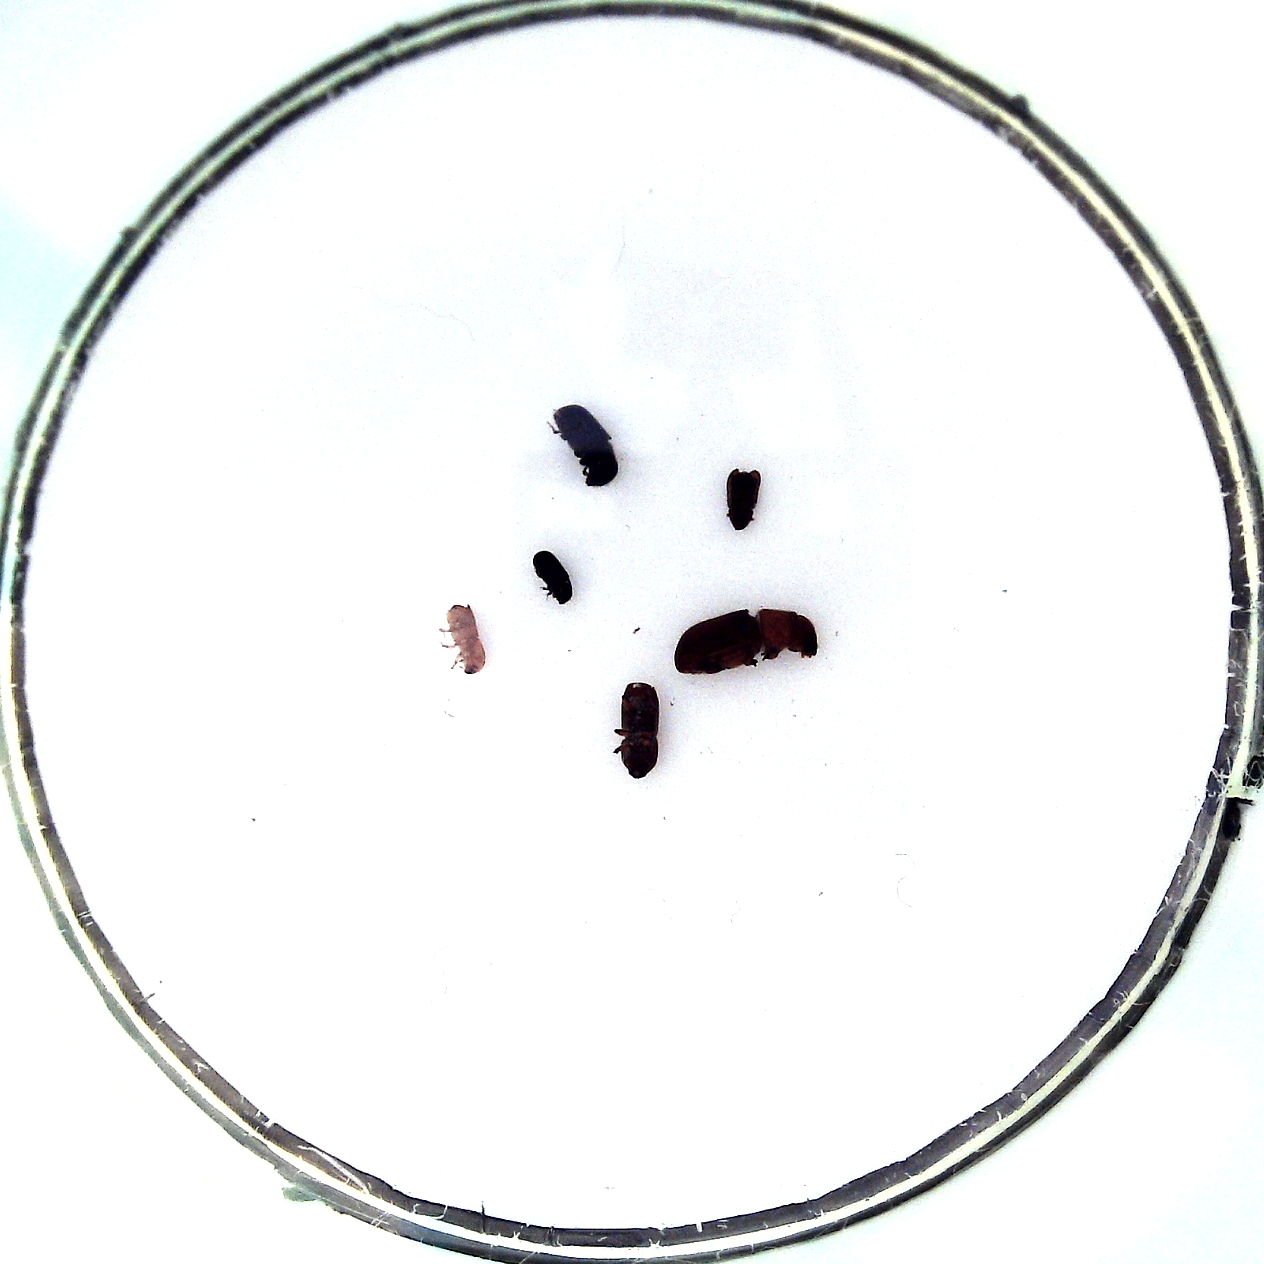Leconte: (674, 608, 820, 673)
acuminatus: (532, 550, 573, 605)
armandi: (553, 404, 618, 486)
coleoptera: (444, 603, 486, 674), (726, 468, 760, 530)
linnaeus: (620, 682, 659, 779)
